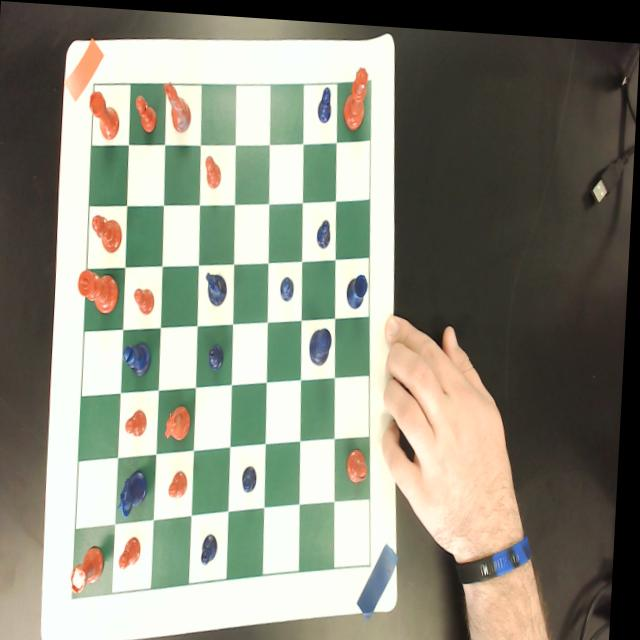B: (125, 336, 154, 375)
K: (311, 321, 335, 362)
N: (121, 465, 152, 516), (207, 268, 230, 302)
P: (206, 527, 223, 562), (317, 81, 332, 120), (245, 459, 262, 489), (210, 339, 228, 367), (318, 214, 333, 244), (282, 271, 297, 297)
R: (348, 267, 370, 304)
b: (92, 211, 125, 250), (350, 441, 372, 478)
k: (79, 266, 122, 312)
n: (160, 77, 194, 133), (168, 400, 195, 439)
p: (135, 91, 158, 130), (123, 531, 147, 568), (128, 405, 151, 434), (172, 465, 192, 496), (136, 283, 157, 312), (205, 151, 222, 185)
q: (342, 61, 369, 126)
r: (76, 541, 111, 595), (88, 88, 121, 137)
